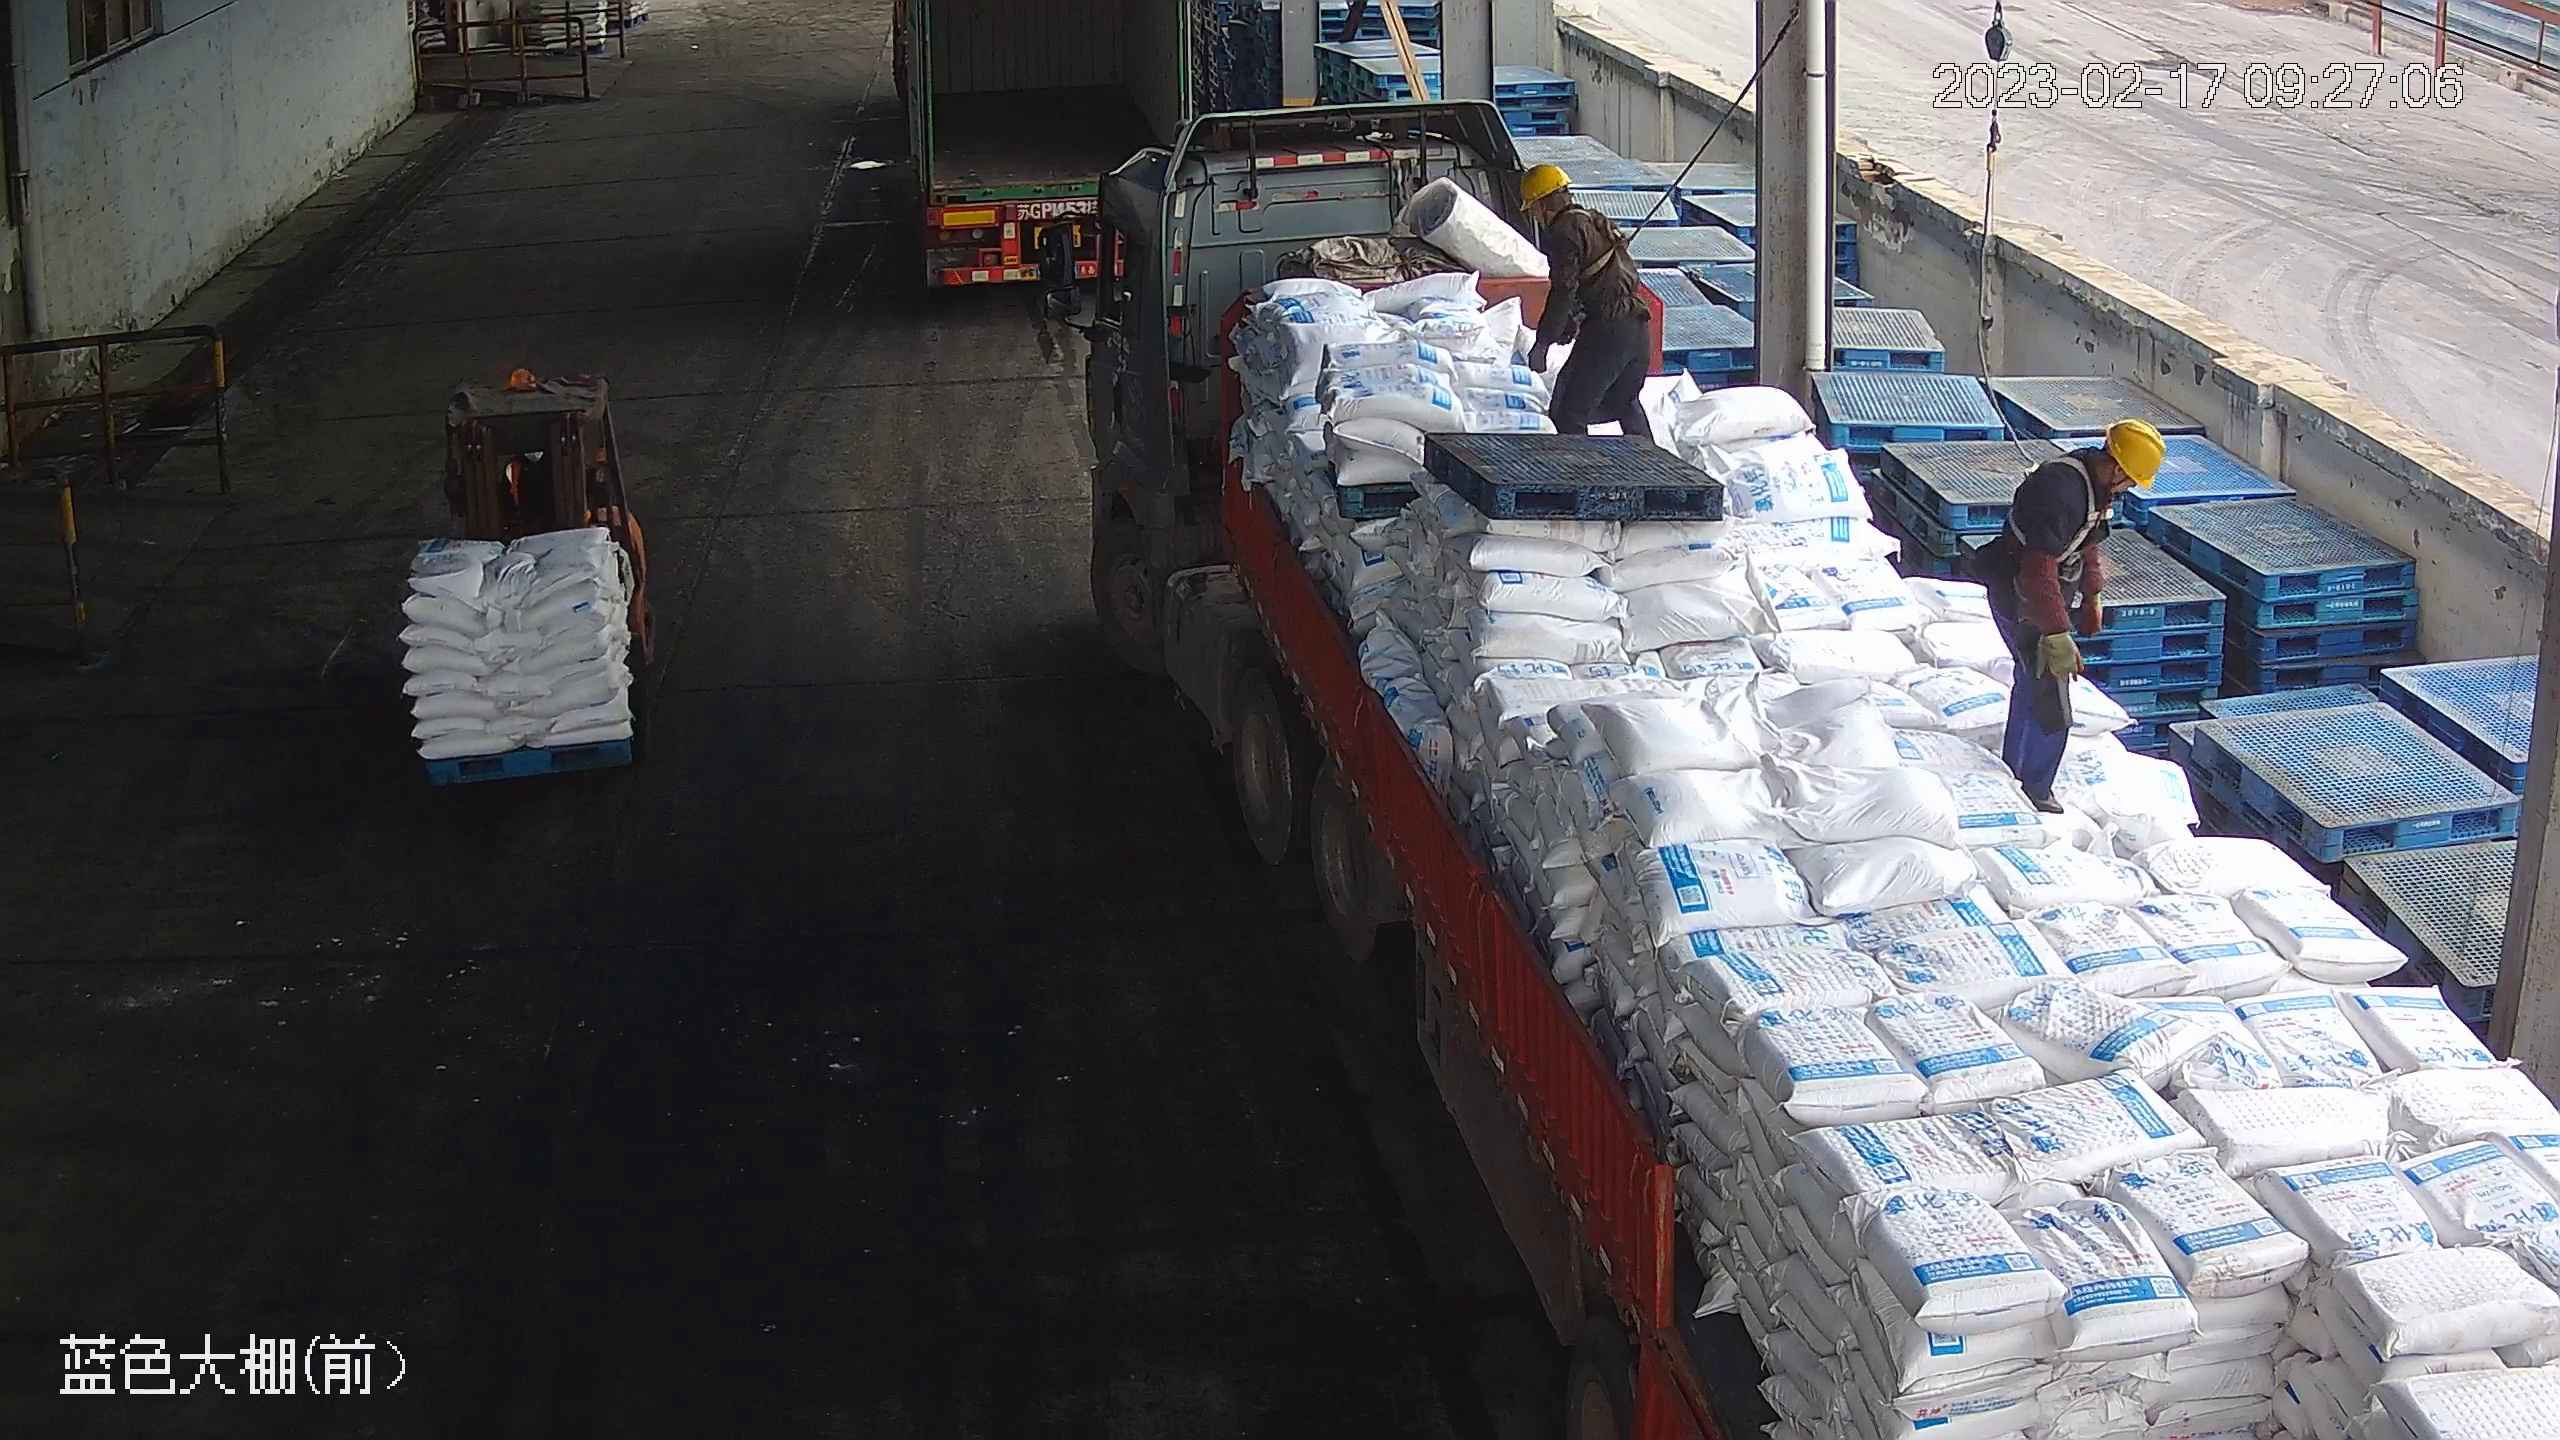belt: (2009, 449, 2114, 556), (1557, 202, 1636, 284)
head: (2025, 417, 2165, 534), (1518, 161, 1618, 258)
helmet: (2103, 416, 2166, 494), (1516, 161, 1570, 210)
people: (1973, 413, 2163, 817), (1516, 161, 1662, 438)
truck: (1048, 96, 2545, 1440), (885, 1, 1199, 299)
